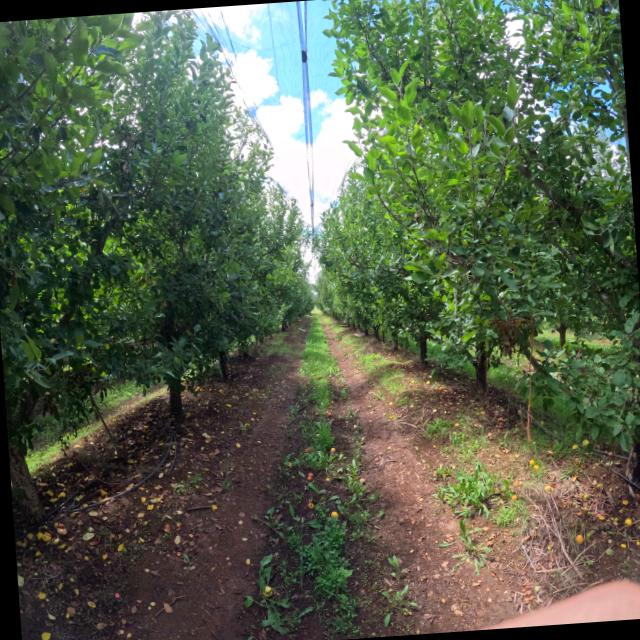-FireBlight-: (494, 318, 521, 359)
